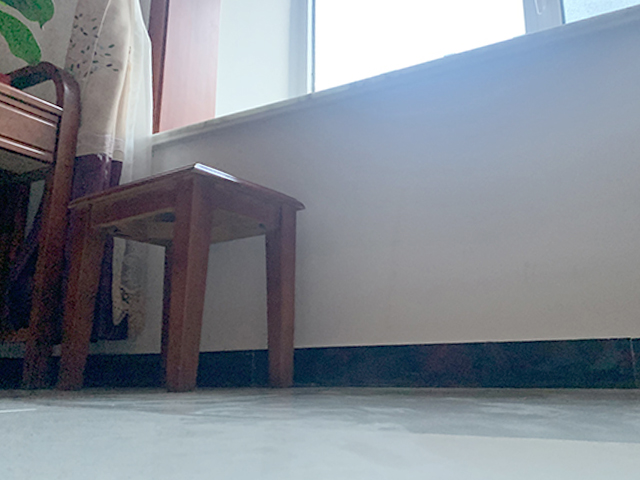curtain: (70, 1, 150, 345)
stool: (54, 160, 306, 392)
